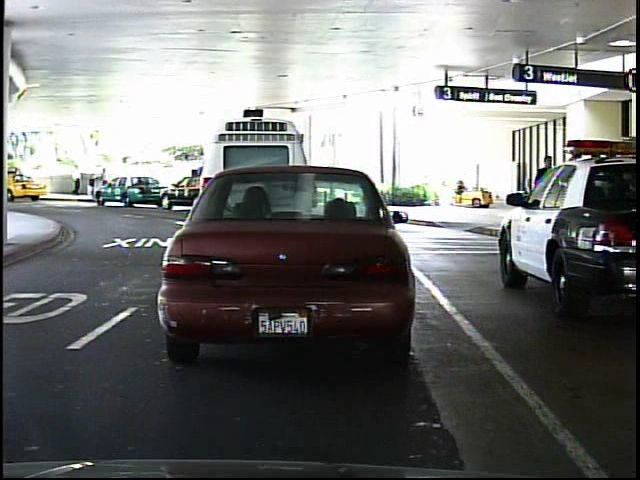person: (530, 149, 562, 233), (93, 165, 112, 200), (71, 161, 85, 200)
